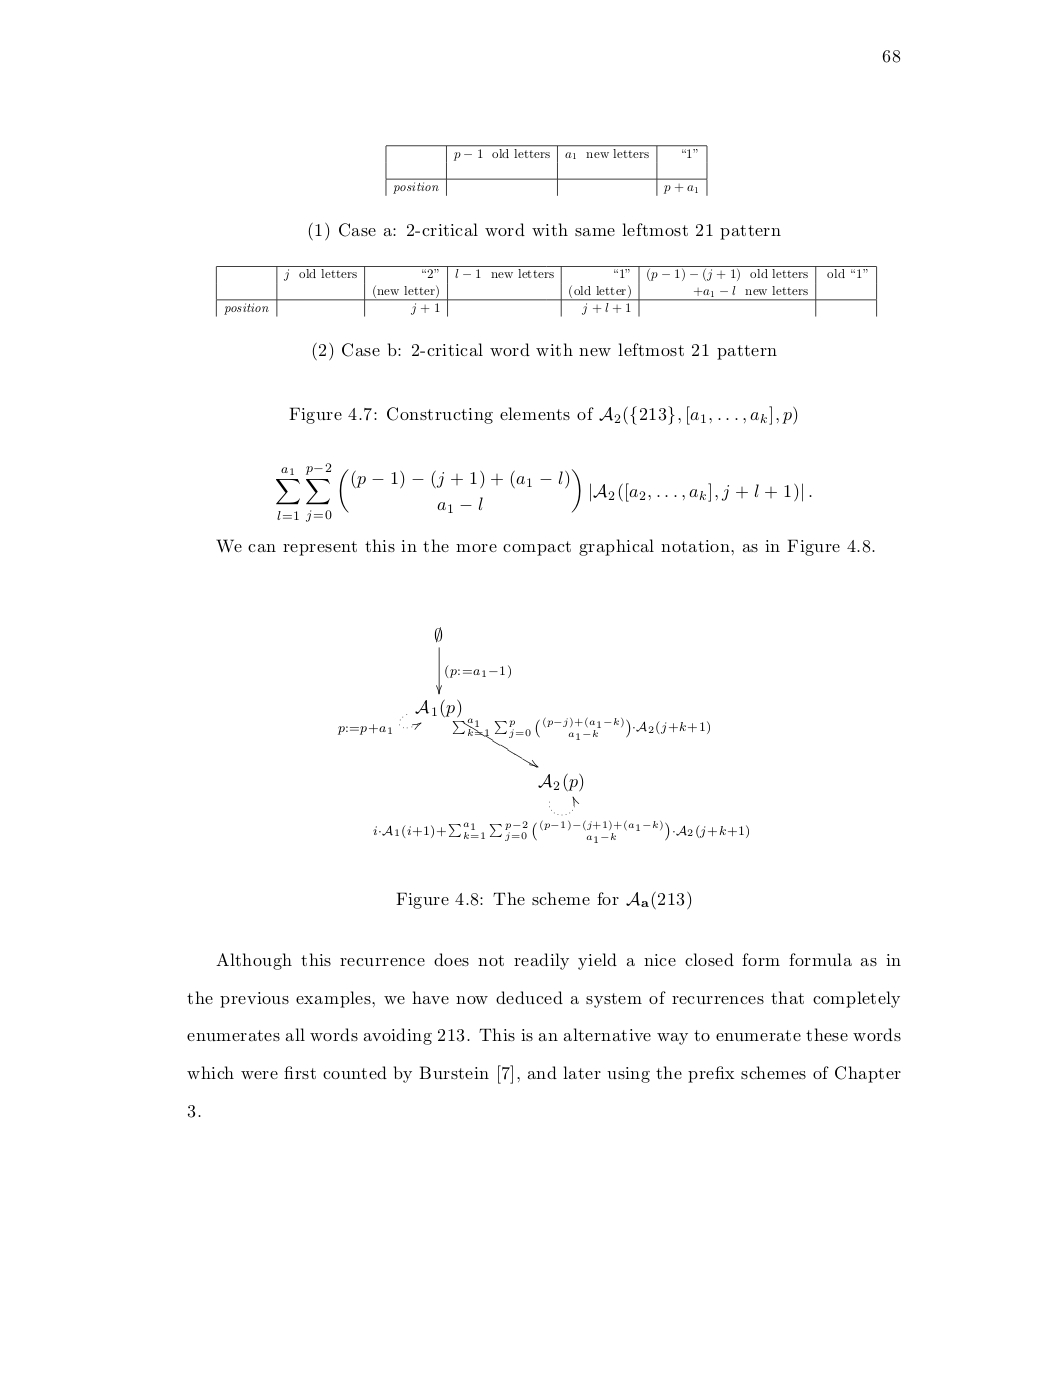Table: (215, 265, 877, 317), (385, 144, 707, 196)
figure: (337, 627, 748, 843)
formula: (276, 462, 811, 522)
